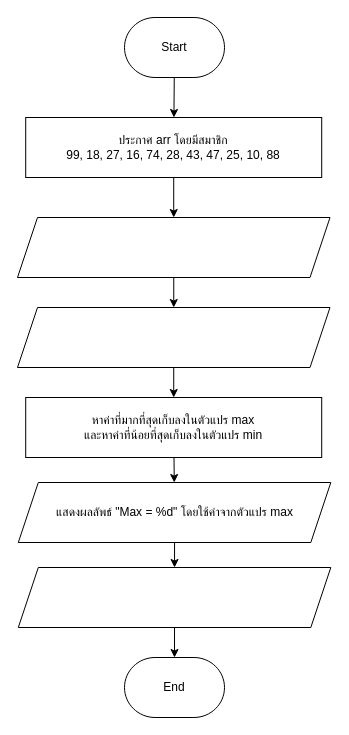
Image size: 349x735. Some labels were removed from this diagram. The shapes that lost their labels are listed below. From the top down, each one's centre as x and y in pixels, then its label:
(173,247): รับค่า n จากคีย์บอร์ด
(173,337): แสดงค่าสมาชิก arr จำนวนตามค่า n
(174,597): แสดงผลลัพธ์ "Min = %d" โดยใช้ค่าจากตัวแปร min
